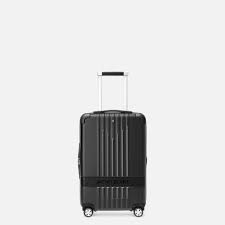suitcase: (78, 70, 148, 218)
